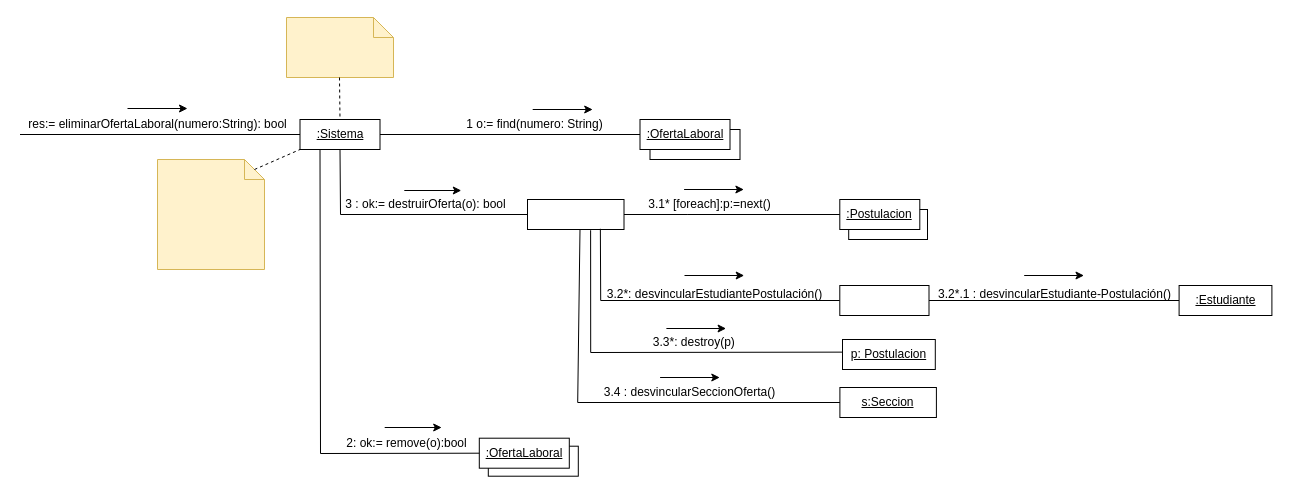
Image size: 1289x494. Some labels were removed from this diagram. Here are the shapes that lost their labels. From the top down, the centre of each, then its label:
At [340,47]: "ok se inicializa en false".
At [210,214]: "El sistema devuelve true si la oferta se pudo desvincular y eliminar".
At [575,214]: "o:OfertaLaboral".
At [884,300]: "p:Postulacion".
